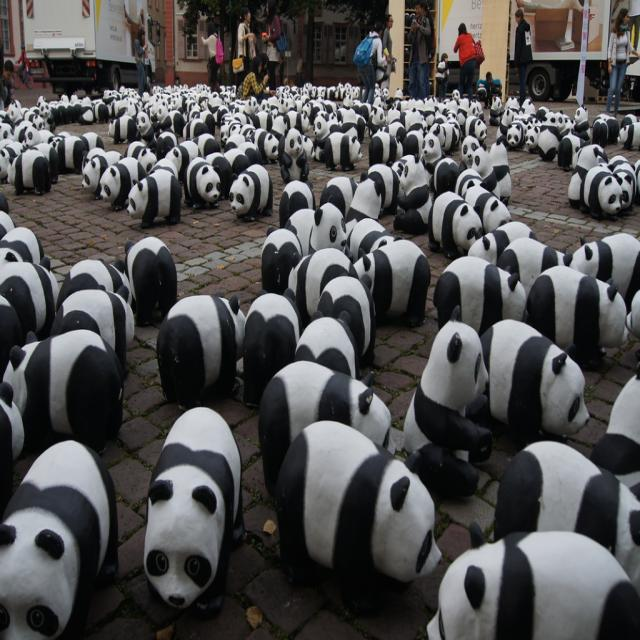panda: (0, 81, 640, 484), (270, 416, 443, 618), (0, 436, 119, 640), (420, 532, 640, 639), (491, 446, 640, 587), (145, 406, 245, 607), (401, 308, 490, 504), (0, 380, 24, 504)
